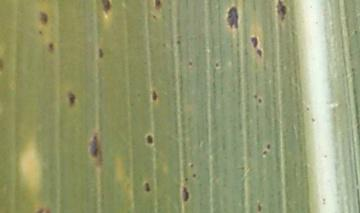tarspot: (89, 133, 101, 159), (227, 5, 239, 28), (276, 1, 287, 21), (38, 10, 48, 25), (101, 1, 112, 14), (181, 185, 189, 201), (46, 41, 56, 53), (67, 90, 75, 105), (249, 34, 258, 47), (255, 47, 264, 58), (151, 88, 158, 101), (97, 48, 105, 59), (34, 206, 45, 213), (144, 181, 151, 192), (146, 133, 152, 144), (260, 148, 268, 156), (153, 1, 162, 8), (304, 104, 311, 113), (159, 41, 167, 48), (257, 202, 262, 213), (151, 12, 157, 21), (36, 28, 43, 35), (252, 92, 259, 99), (213, 61, 220, 68), (175, 38, 182, 45), (1, 55, 4, 71), (189, 161, 195, 169), (266, 142, 272, 150), (190, 172, 197, 178), (310, 116, 316, 123), (183, 176, 189, 182), (258, 97, 263, 104), (188, 59, 193, 66), (353, 29, 359, 34)
